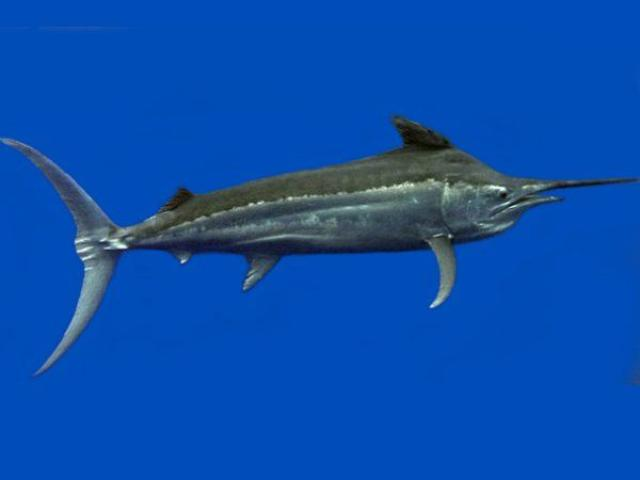Mulut: (472, 149, 640, 245)
Sirip Anal: (152, 177, 214, 274)
Sirip Dada: (412, 224, 471, 320)
Sirip Ekor: (0, 116, 150, 386)
Sirip Perut: (229, 240, 295, 304)
Sirip Punggung: (378, 105, 464, 165)
